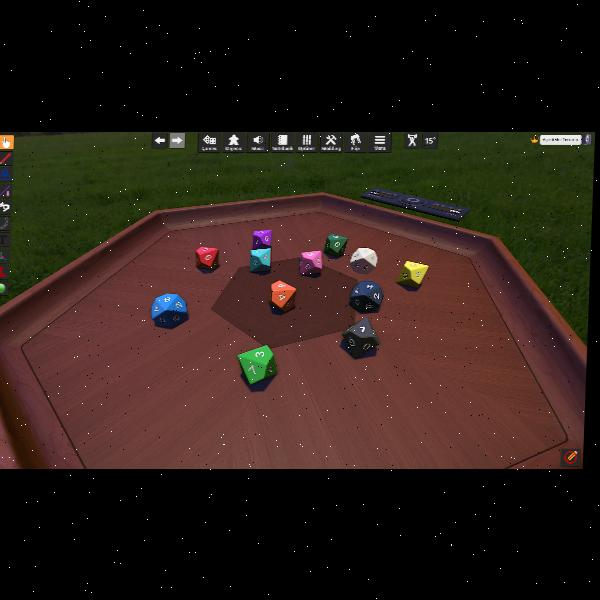d10: (237, 345, 278, 385), (341, 318, 380, 358), (151, 293, 188, 327), (349, 281, 383, 313), (268, 280, 296, 312), (397, 260, 427, 288), (348, 246, 376, 274), (324, 232, 348, 256), (194, 246, 218, 270), (300, 250, 323, 274), (249, 248, 271, 272), (252, 229, 272, 249)
